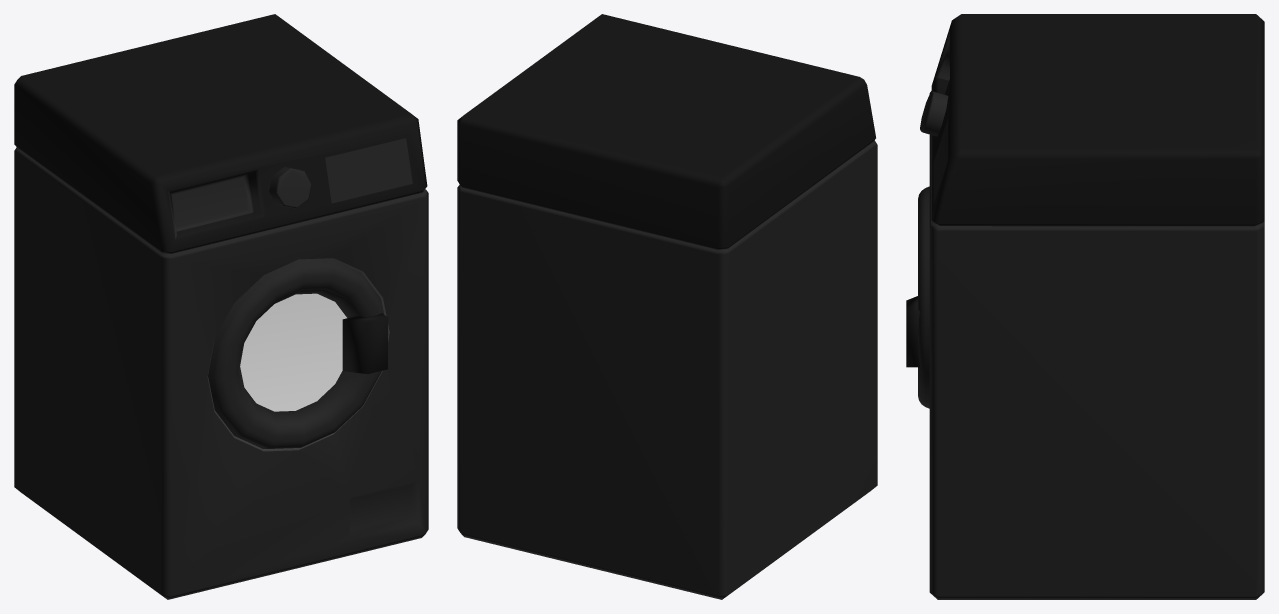
Rendered from bathroom_017.fbx.
3 renders of one model, left to right at view 1: azimuth 30°, elevation 25°; view 2: azimuth 150°, elevation 25°; view 3: azimuth 270°, elevation 25°, orthographic. The views are drawn at different scales.
Visible parts, largest first — view 1: bathroom_017; view 2: bathroom_017; view 3: bathroom_017.
Part boxes in pixels (x1,y1,x2,y2): bathroom_017: (14, 14, 428, 599); bathroom_017: (457, 14, 877, 599); bathroom_017: (906, 14, 1264, 599).
Size of the model in its own units: 78.58 by 84.01 by 117.
